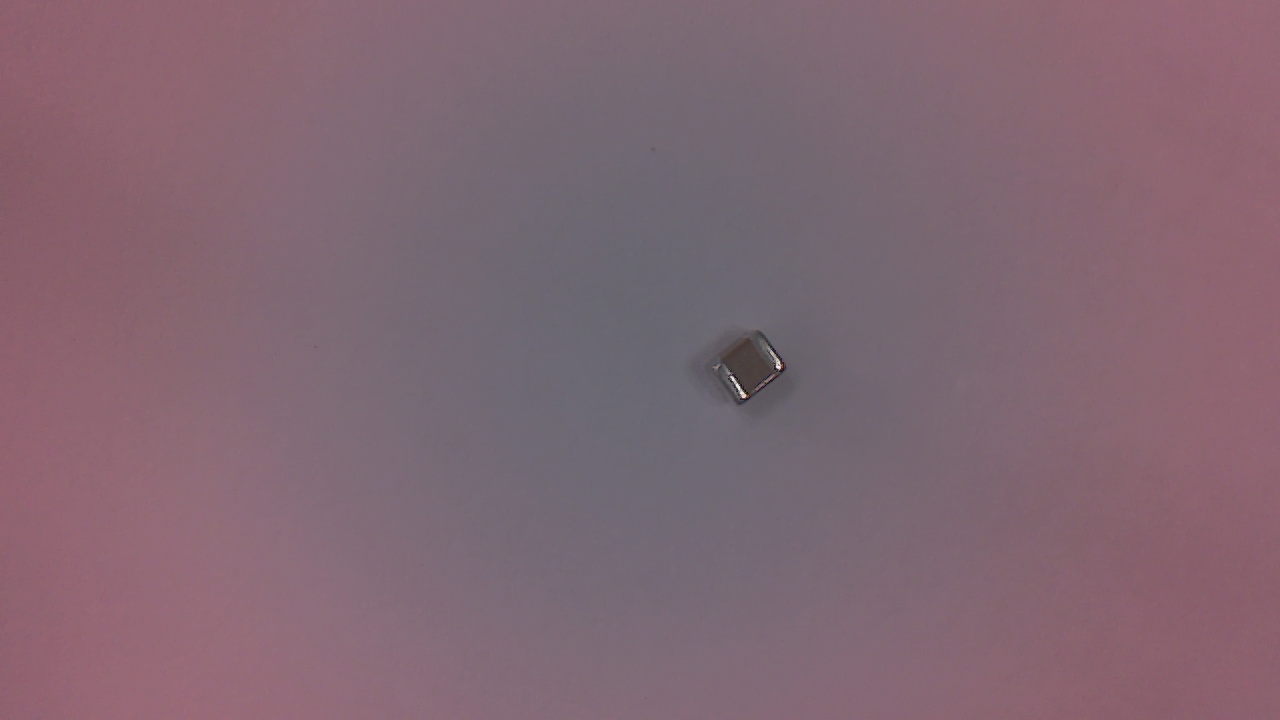Condensator: (714, 339, 792, 409)
